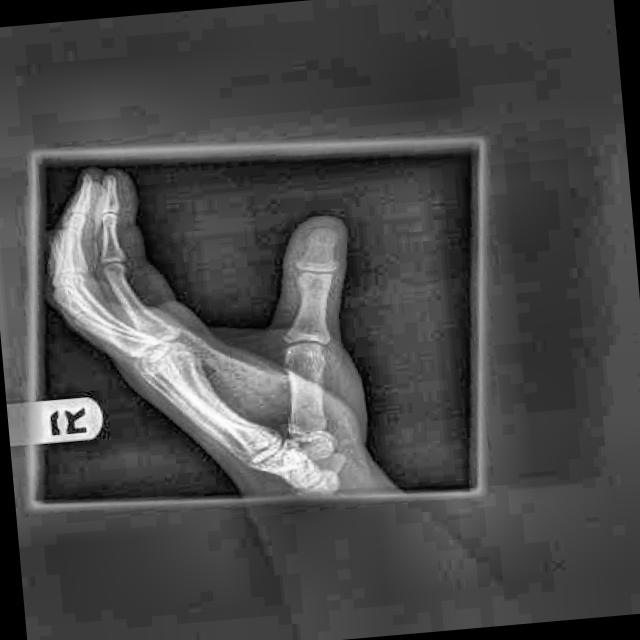fingers positive: (270, 322, 306, 349)
